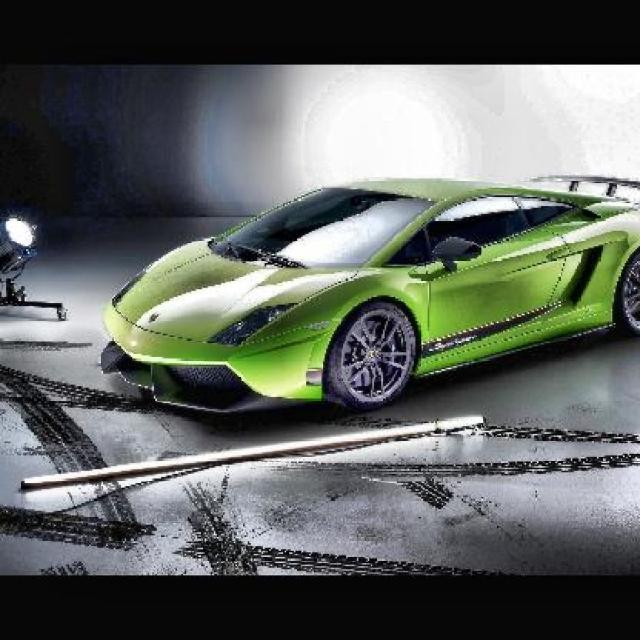green: (105, 180, 640, 408)
